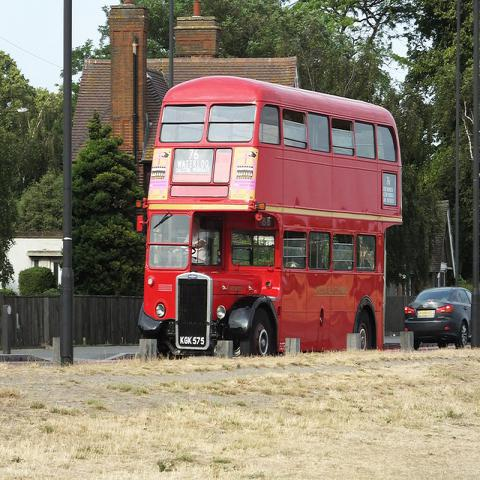bus: (138, 74, 404, 360)
car: (404, 287, 472, 349)
